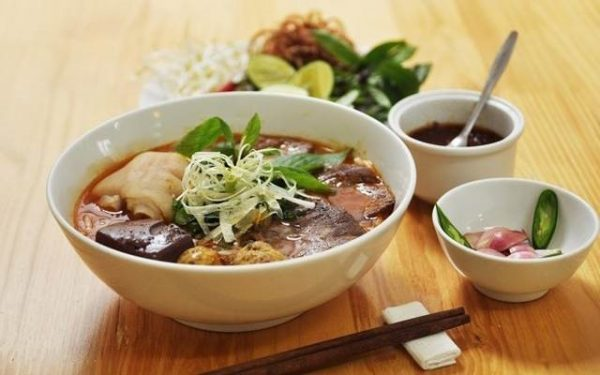pork: (90, 150, 182, 216)
